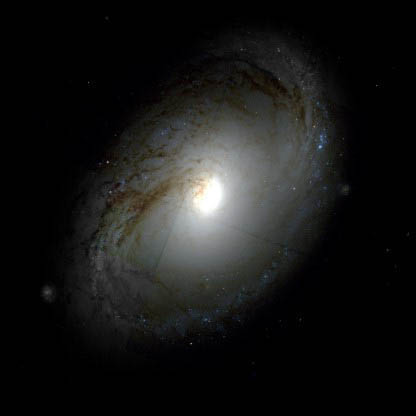Messier 96: (57, 33, 346, 340)
